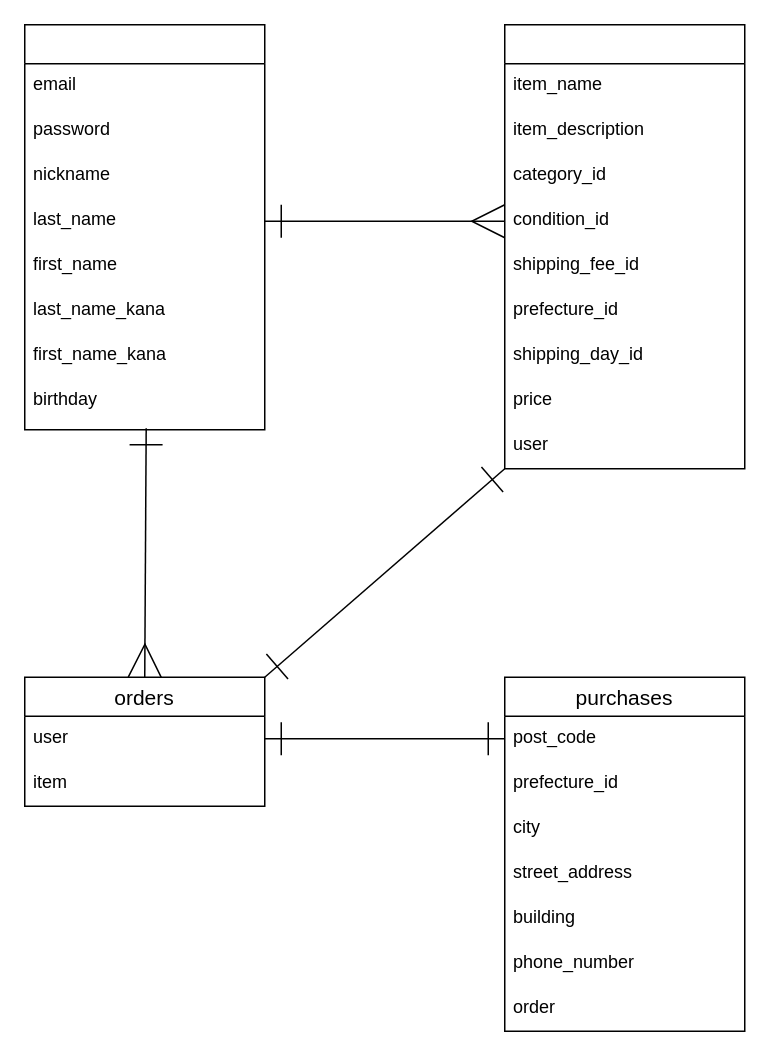
Image size: 770x1056. Some labels were removed from this diagram. Here are the shapes that lost their labels. From the top down, the box of each, then its label:
(23, 23, 265, 430): users
(503, 23, 745, 469): items
